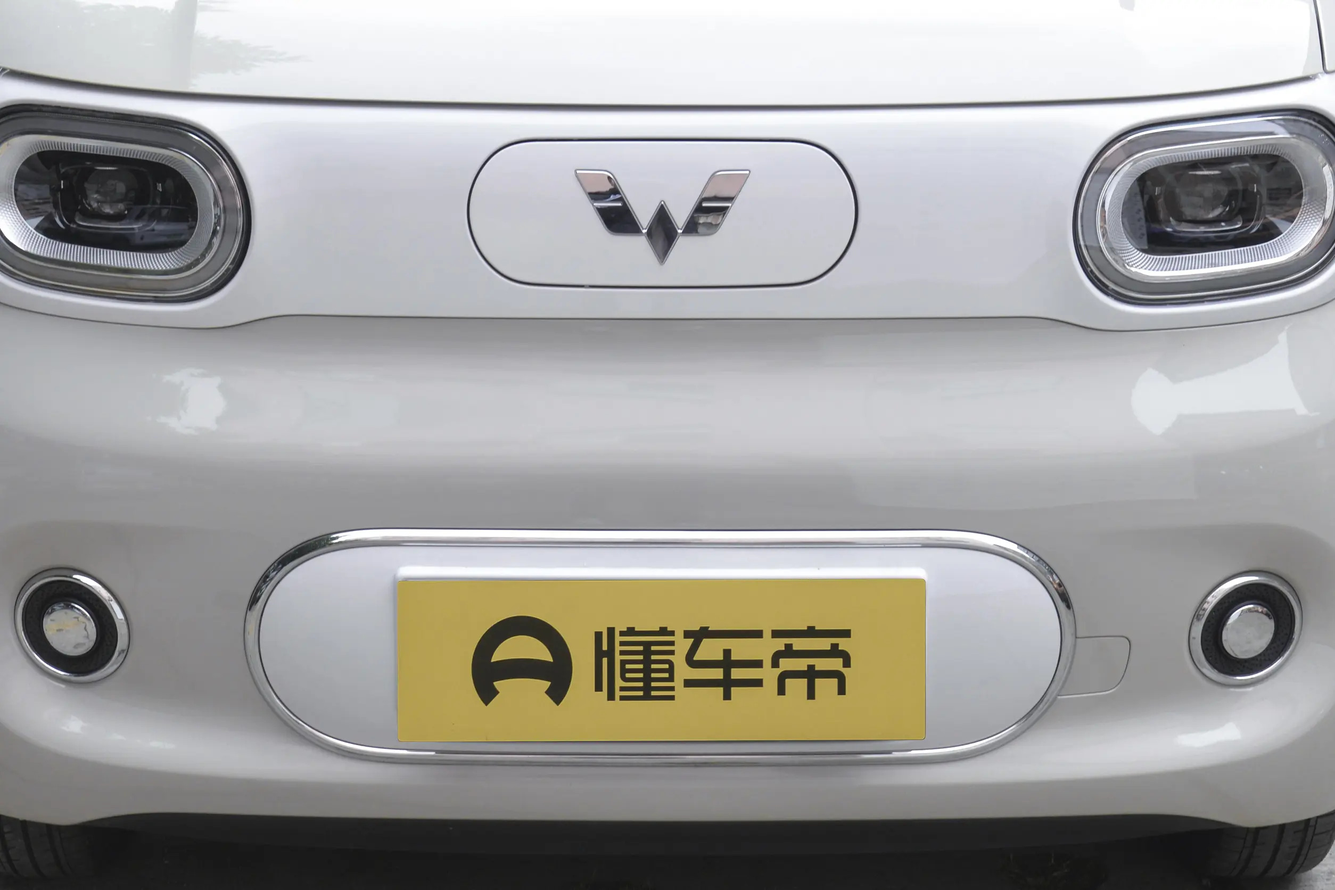SGMW: (576, 171, 749, 265)
